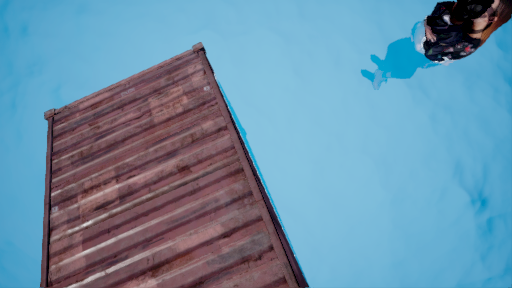person: (362, 1, 512, 101)
